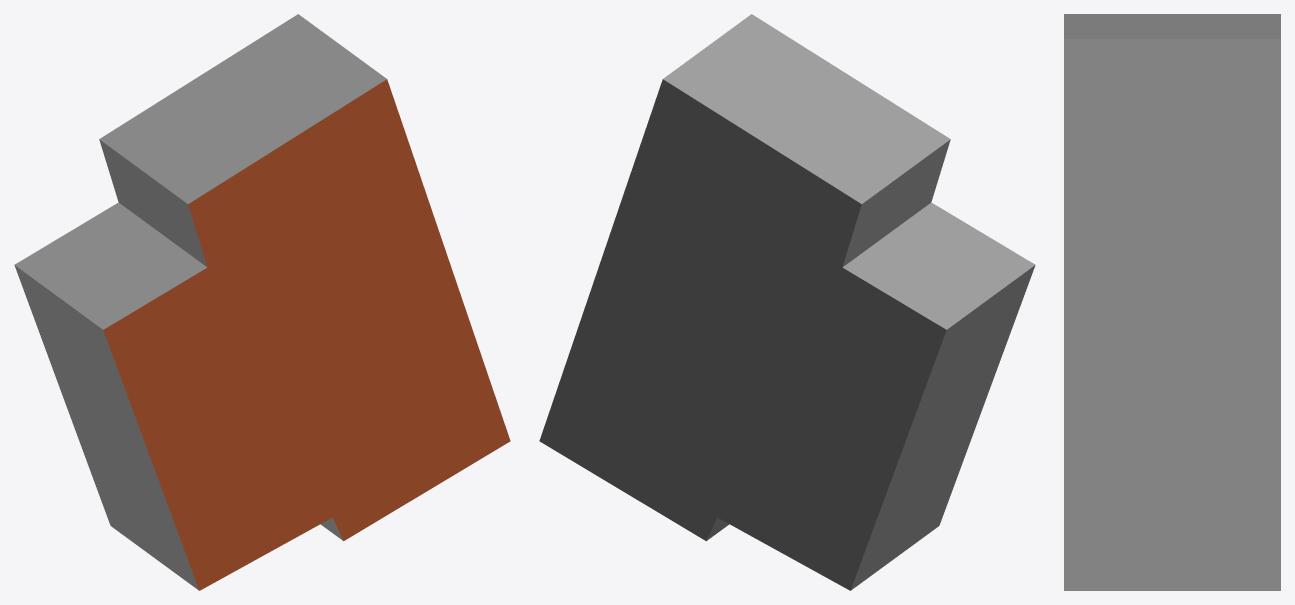
File: construction_2573_assumed_A_Casa_h6m.obj
3 renders of one model, left to right at view 1: azimuth 30°, elevation 25°; view 2: azimuth 150°, elevation 25°; view 3: azimuth 270°, elevation 25°, orthographic. The views are drawn at different scales.
Visible parts, largest first — view 1: construction_2573_assumed_A_Casa; view 2: construction_2573_assumed_A_Casa; view 3: construction_2573_assumed_A_Casa.
Part boxes in pixels (x1,y1,x2,y2): construction_2573_assumed_A_Casa: (14,14,510,590); construction_2573_assumed_A_Casa: (539,14,1035,590); construction_2573_assumed_A_Casa: (1064,14,1280,590).
Size of the model in its own units: 15.87 by 17.35 by 6.
